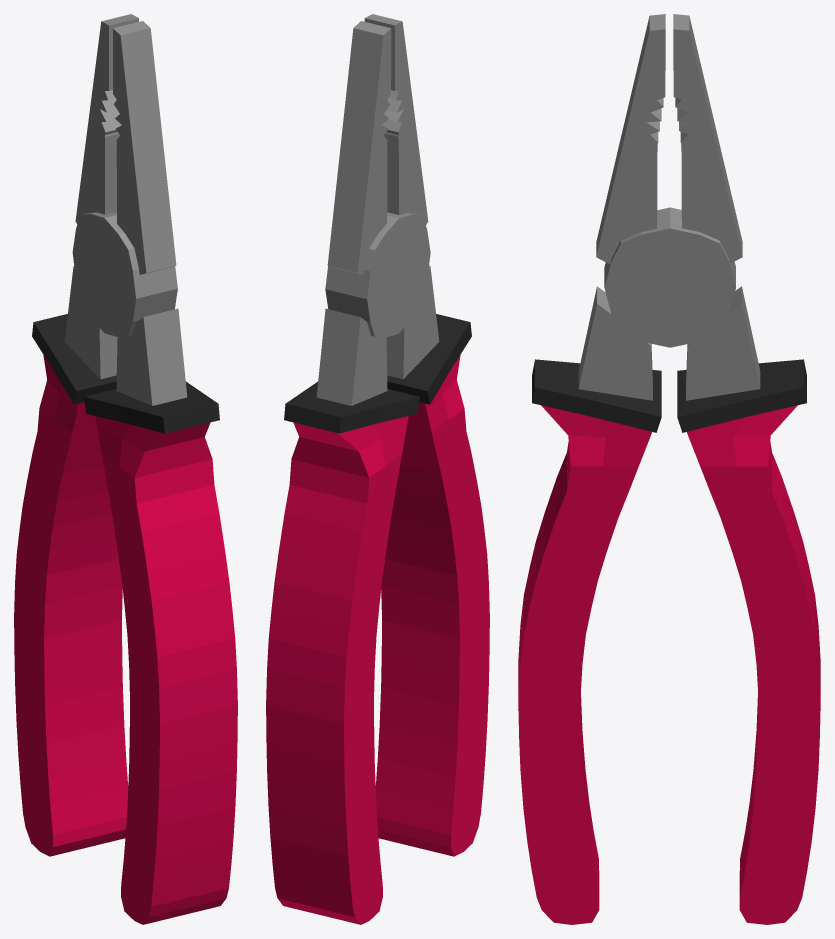
The model's file is Alicate_A01.fbx.
3 renders of one model, left to right at view 1: azimuth 30°, elevation 25°; view 2: azimuth 150°, elevation 25°; view 3: azimuth 270°, elevation 25°, orthographic. The views are drawn at different scales.
Visible parts, largest first — view 1: Alicate; view 2: Alicate; view 3: Alicate.
Part boxes in pixels (x1,y1,x2,y2): Alicate: (14,14,237,924); Alicate: (266,14,489,924); Alicate: (518,14,820,924).
Bounding box in the file's own units: 1.11 × 9.86 × 3.06.
